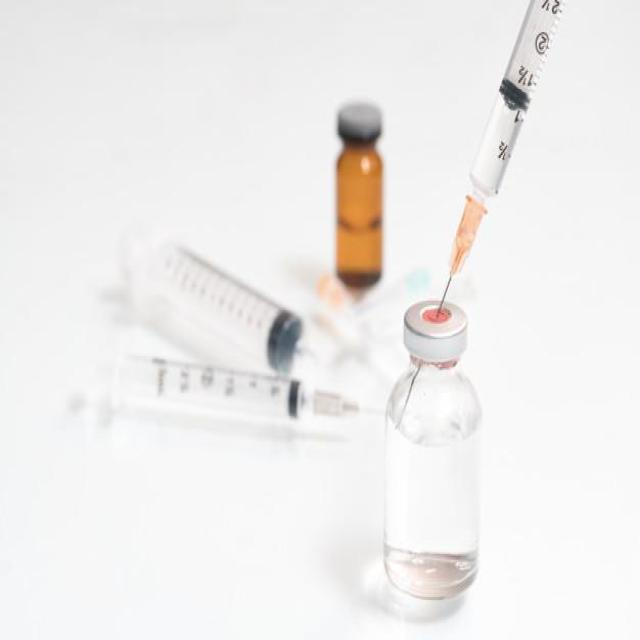B3: (376, 293, 488, 606), (118, 220, 319, 372), (450, 0, 564, 267), (87, 340, 357, 430), (326, 89, 389, 295)
